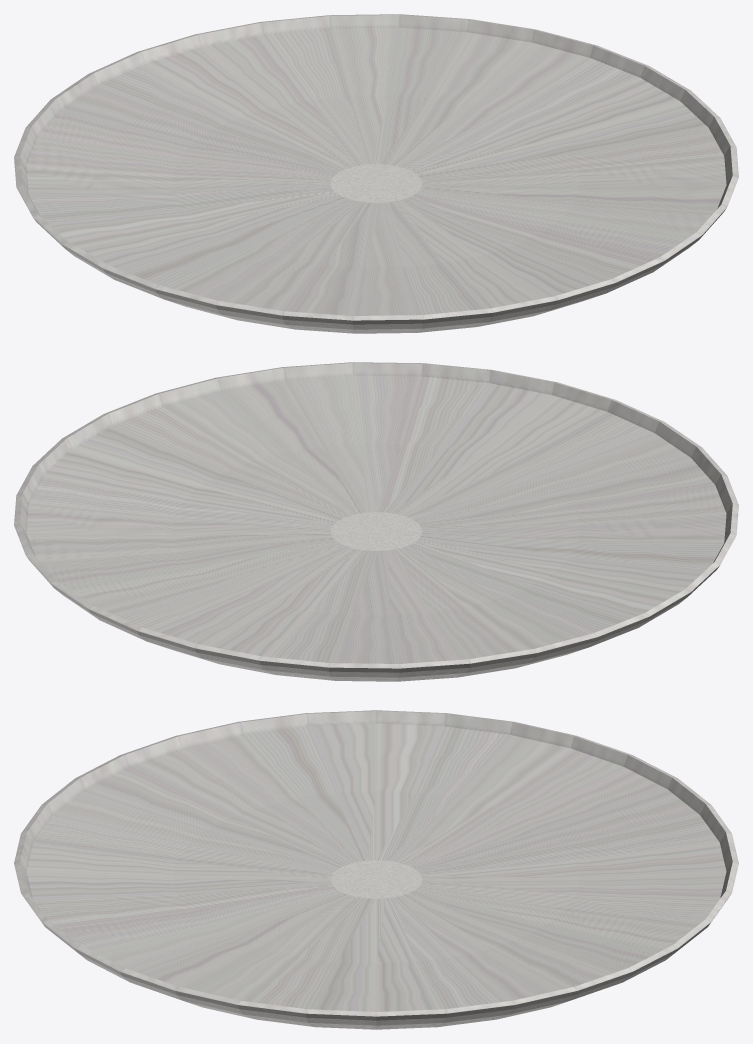
Rendered from SJ10_heat.fbx.
3 renders of one model, top to bottom at view 1: azimuth 30°, elevation 25°; view 2: azimuth 150°, elevation 25°; view 3: azimuth 270°, elevation 25°, orthographic.
Parts seen in each view (by area): view 1: 柱体.004; view 2: 柱体.004; view 3: 柱体.004.
Part boxes in pixels (x1,y1,x2,y2): 柱体.004: (14,14,738,333); 柱体.004: (14,362,738,681); 柱体.004: (14,710,738,1029).
Size of the model in its own units: 1.75 by 0.1867 by 1.75.
1 material, 1 textured.
